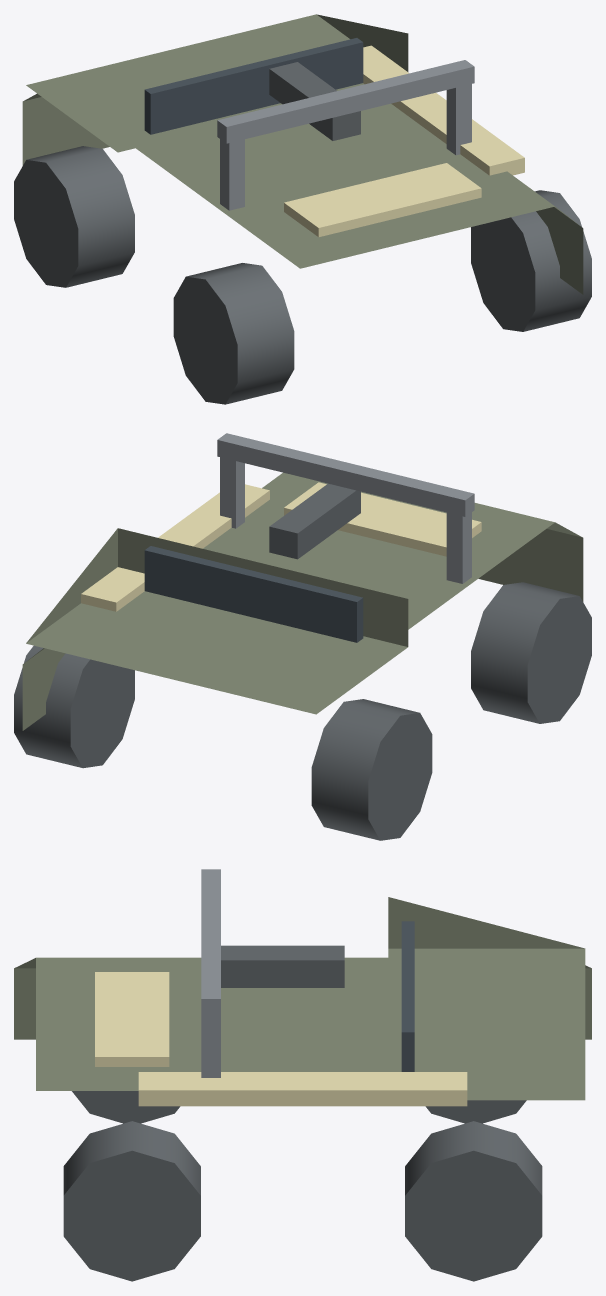
The model's file is scout_vehicle.glb.
3 renders of one model, top to bottom at view 1: azimuth 30°, elevation 25°; view 2: azimuth 150°, elevation 25°; view 3: azimuth 270°, elevation 25°, orthographic. The views are drawn at different scales.
Parts seen in each view (by area): view 1: Body; view 2: Body; view 3: Body.
Boxes of the visible parts, bbox=[...] form: Body: bbox=[14, 14, 591, 404]; Body: bbox=[14, 433, 591, 840]; Body: bbox=[14, 869, 591, 1281].
Bounding box in the file's own units: 2 × 1.28 × 2.64.
